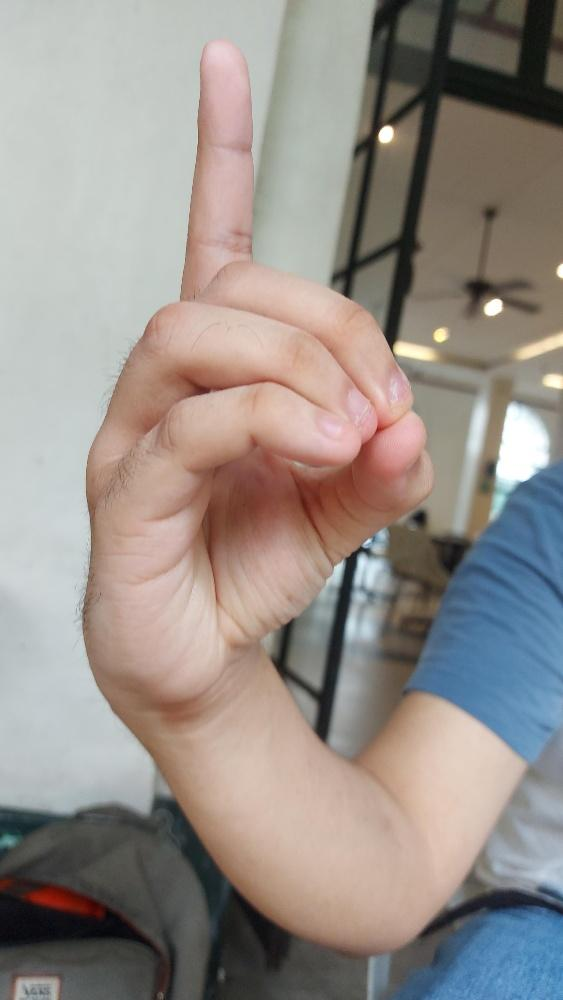d: (80, 38, 433, 705)
